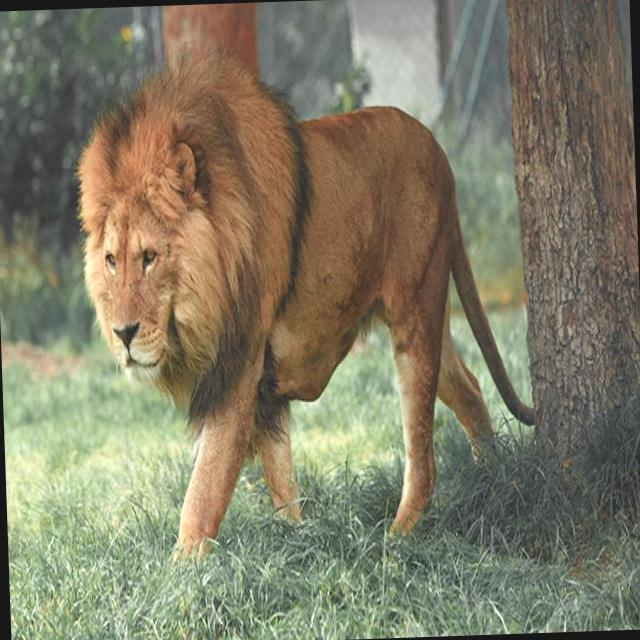lions: (0, 32, 564, 582)
